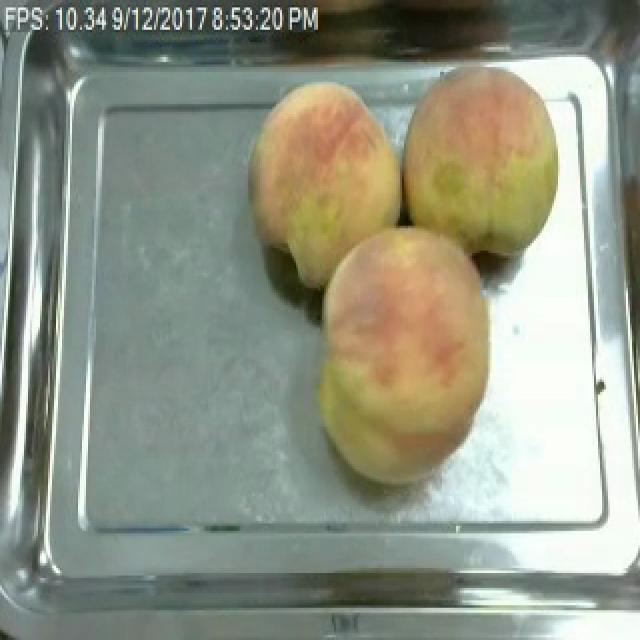Fruit: (304, 216, 506, 494), (238, 70, 412, 298), (394, 54, 574, 266)
